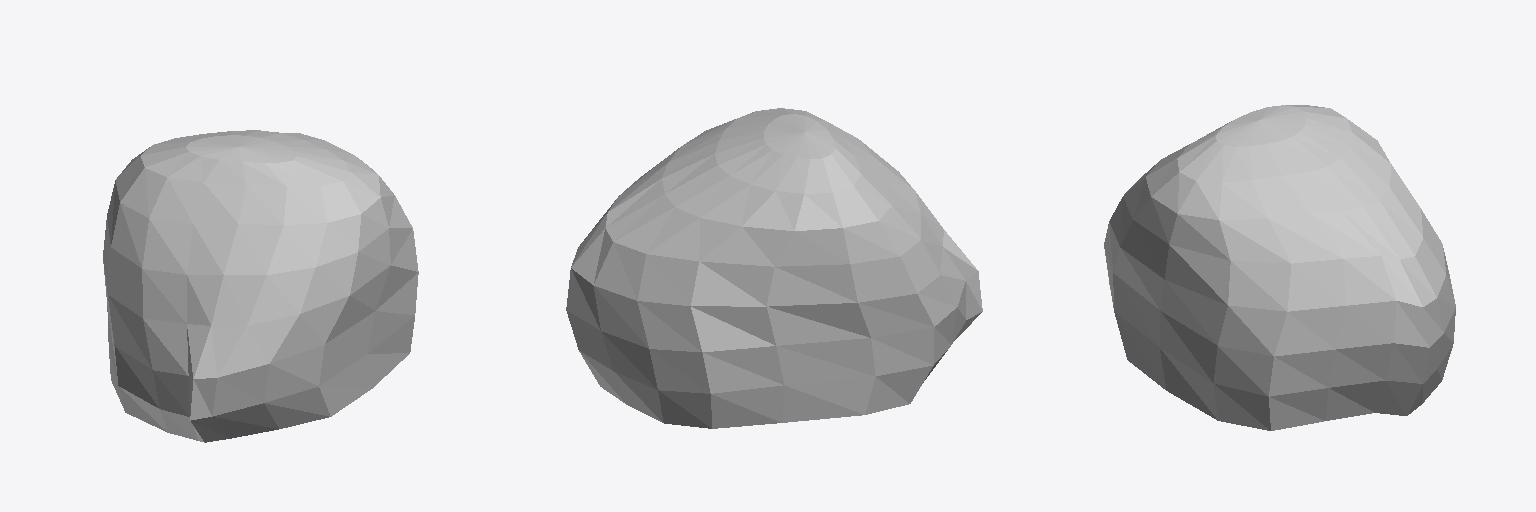
Rendered from stone_1.obj.
The picture shows the model from 3 angles: view 1: azimuth 30°, elevation 25°; view 2: azimuth 150°, elevation 25°; view 3: azimuth 270°, elevation 25°; orthographic projection.
Parts seen in each view (by area): view 1: Sphere001; view 2: Sphere001; view 3: Sphere001.
Part boxes in pixels (x1,y1,x2,y2): Sphere001: (103, 130, 418, 442); Sphere001: (566, 108, 982, 428); Sphere001: (1104, 105, 1455, 430).
Size of the model in its own units: 202 by 154 by 200.